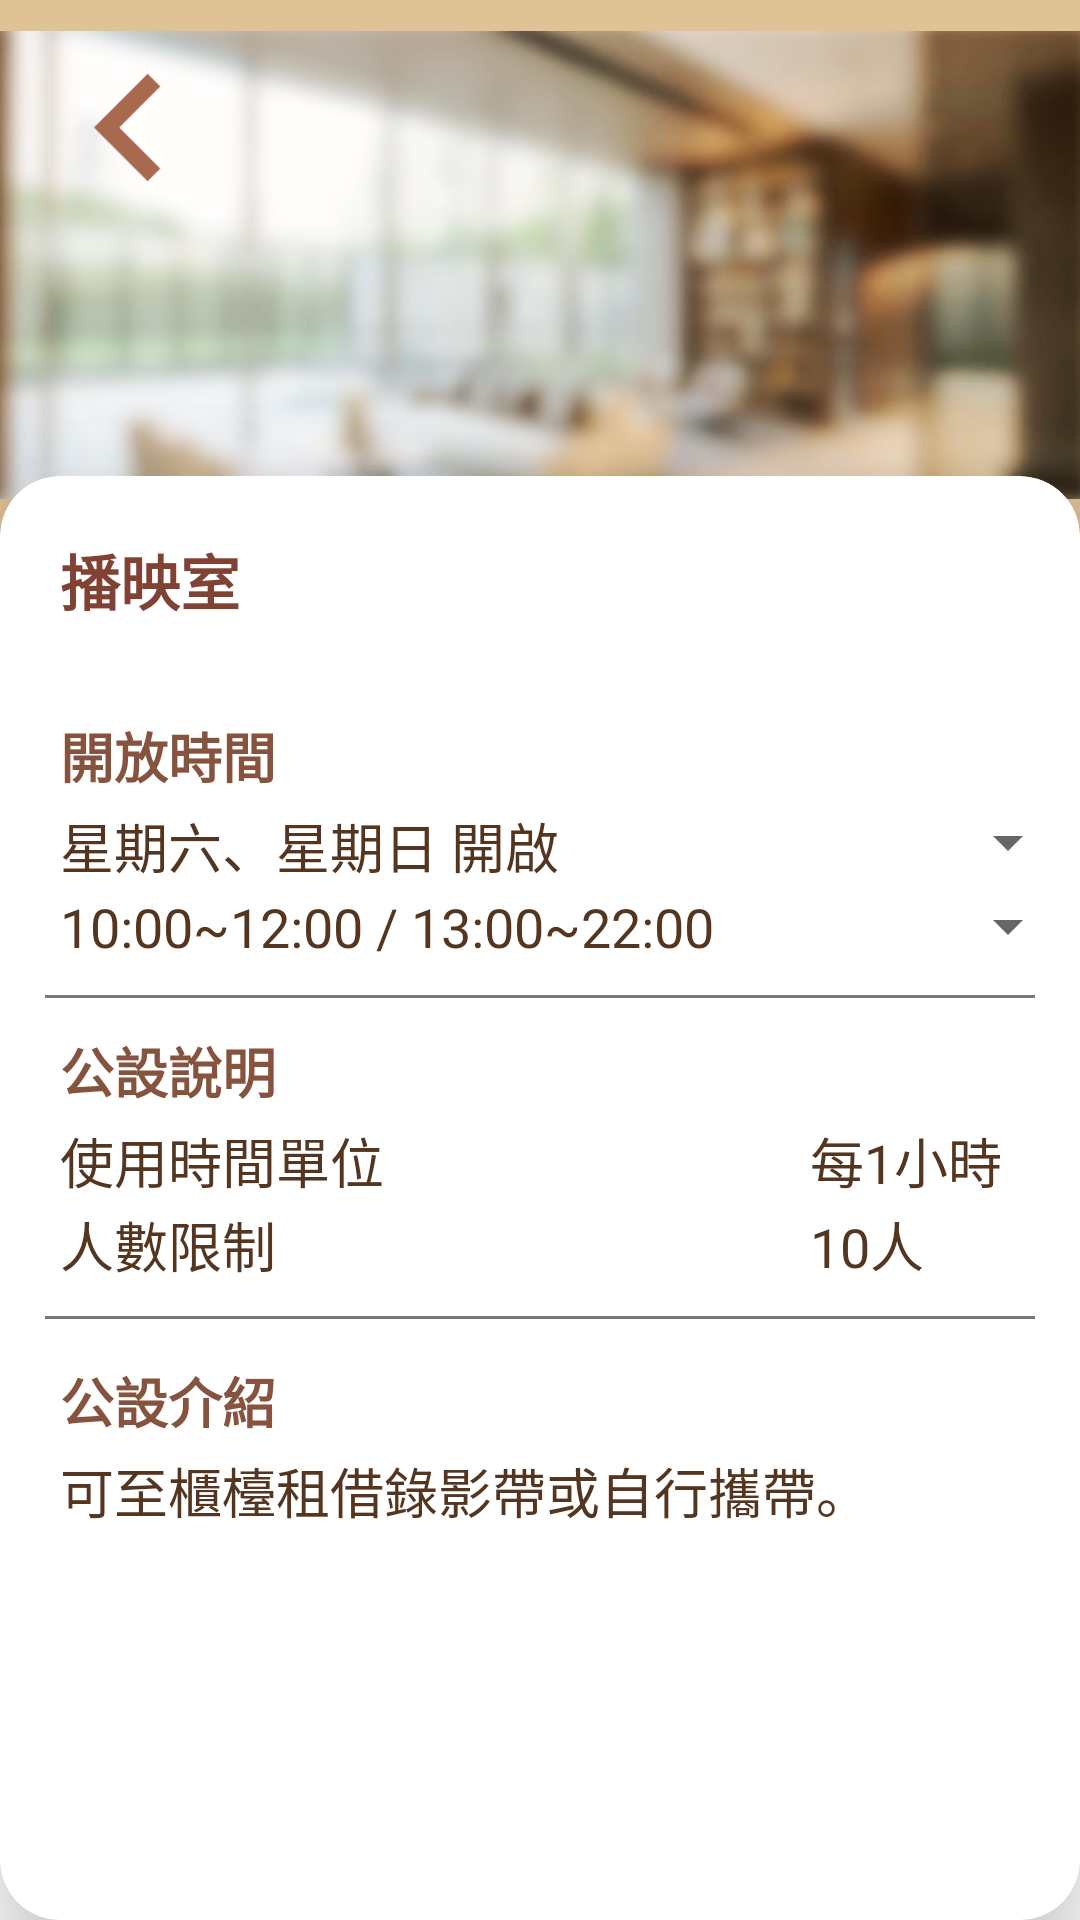

Locate icon controls on the screen. Image size 1080 × 1920, boxes as (x1, y1, x2, y2).
previous page: (94, 74, 161, 181)
